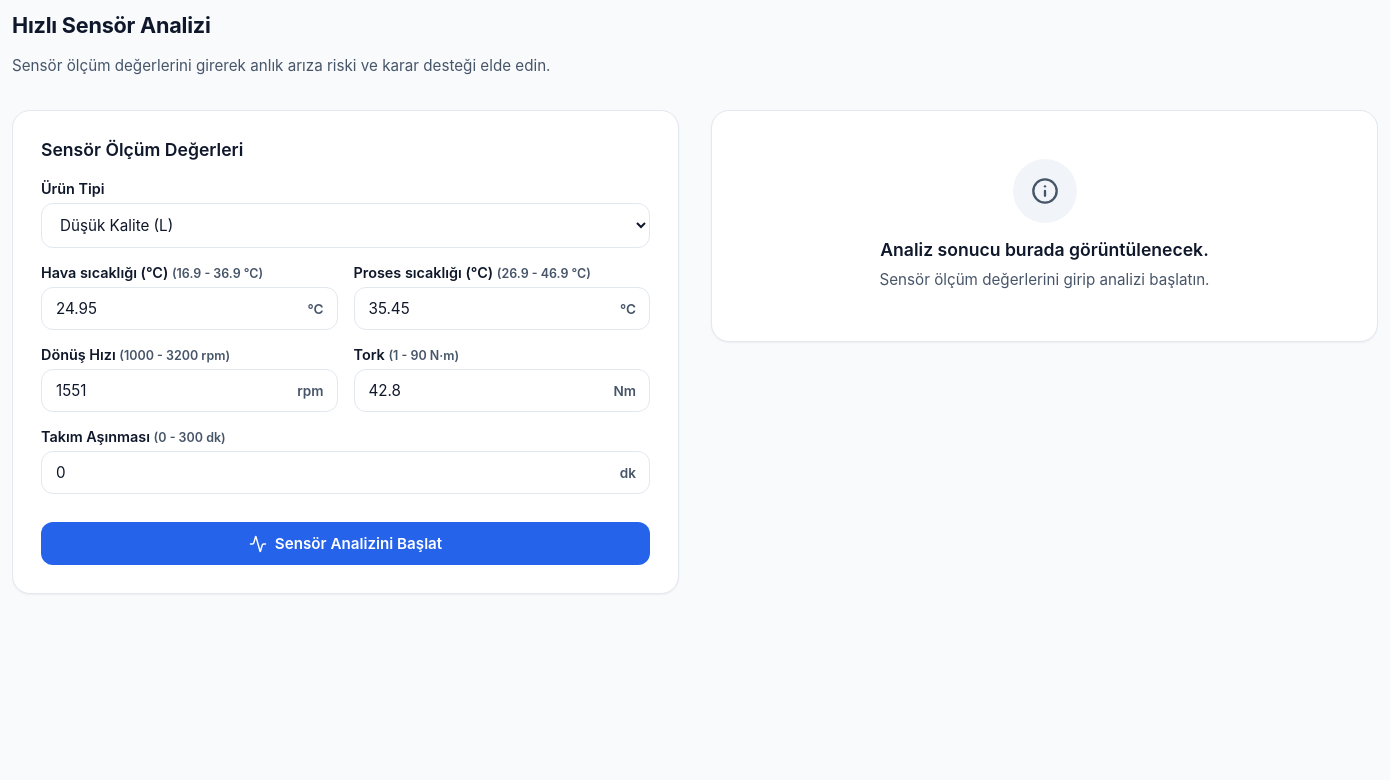
Test: HizliAnaliz › teknik detaylar alanı varsayılan olarak kapalıdır ve kullanıcı açtığında görünür
Click the button "Sensör Analizini Başlat": (346, 544) [41,522,650,565]
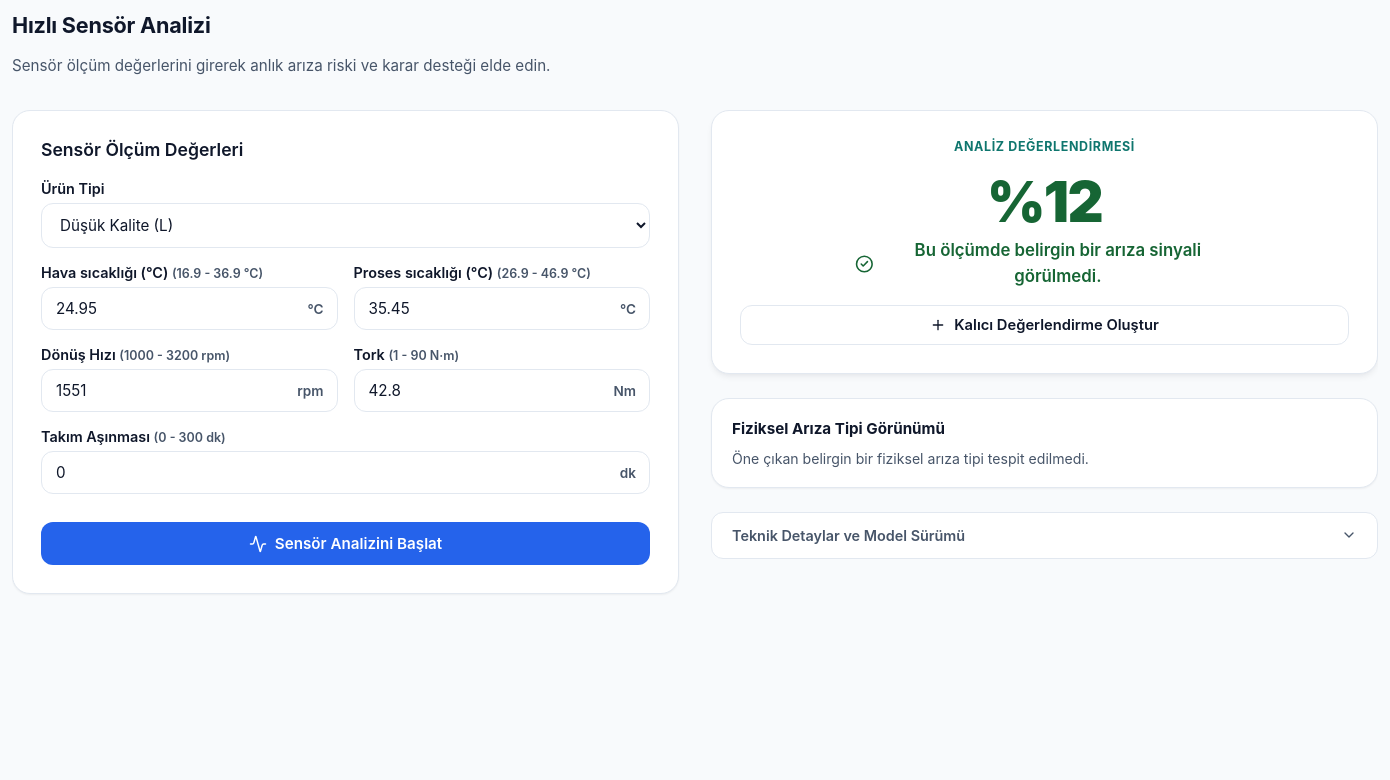
expect the text "binary-failure-1.0.0" is not shown: met
expect the text "%12" is shown: met, box [987,174,1102,230]
# Click to open accordion
Click the button "Teknik Detaylar ve Model Sürümü": (849, 535) [712,513,1377,558]
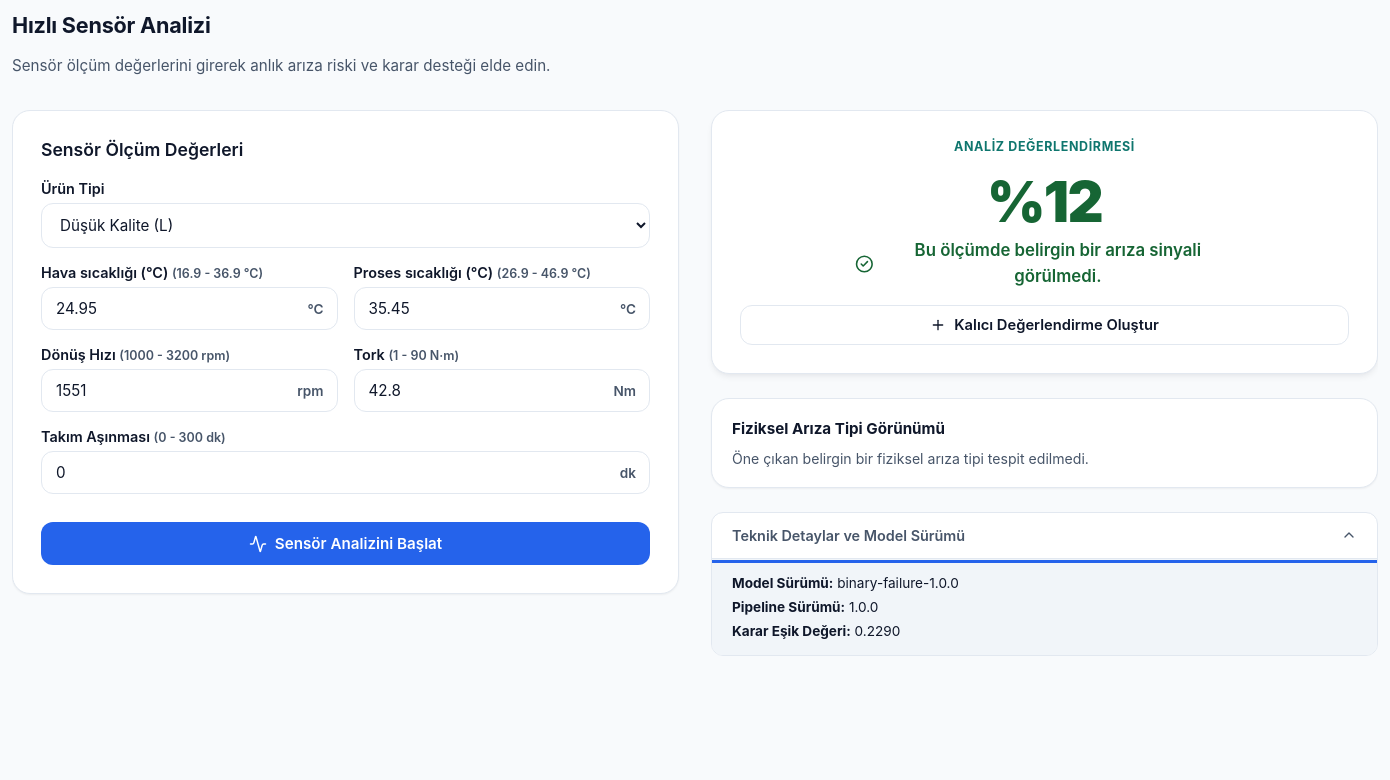
expect the text "Model Sürümü: binary-failure-1.0.0" is shown: met, box [732,575,959,591]
